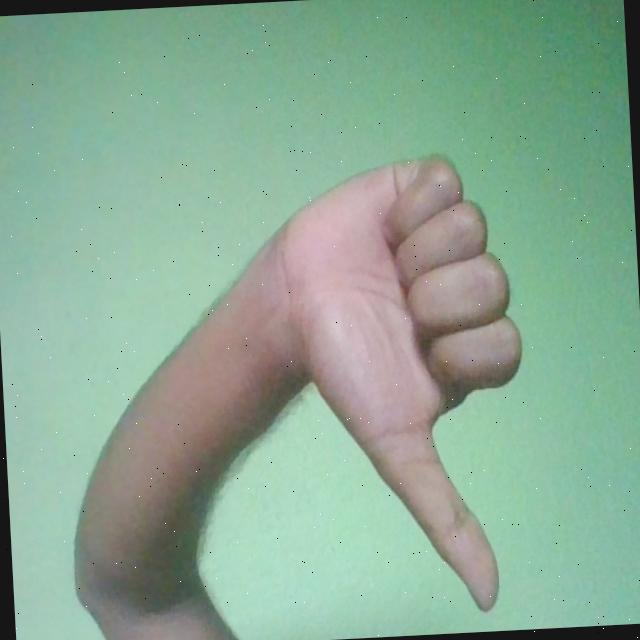Dislike: (273, 147, 534, 623)
